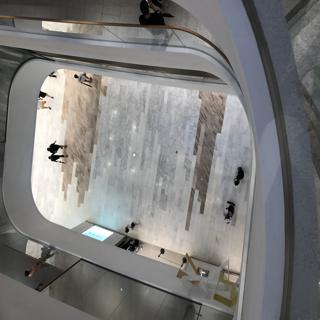person: (64, 67, 100, 91), (44, 141, 76, 154)
